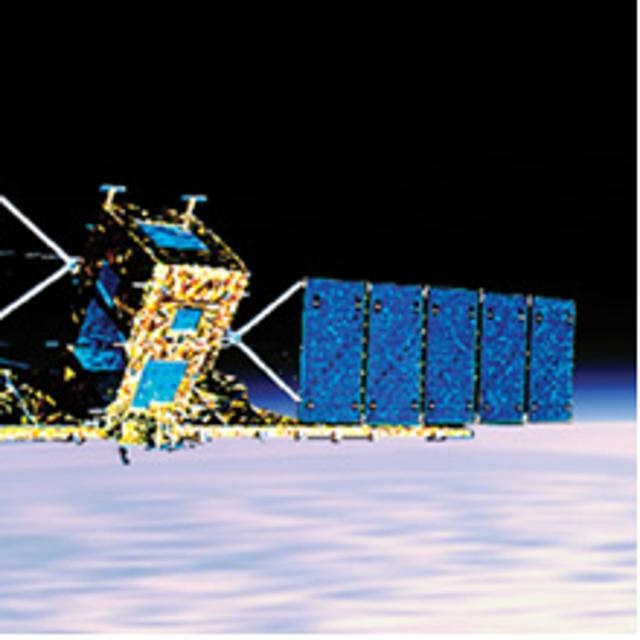medium_debris: (0, 178, 584, 465)
